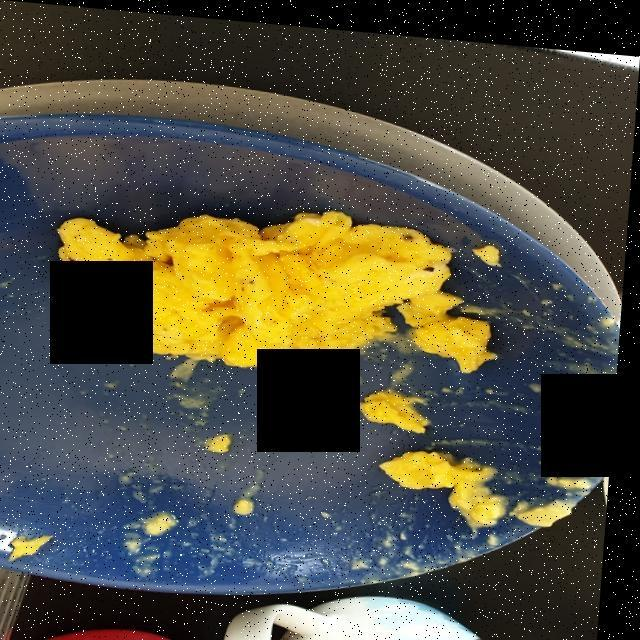eggs: (60, 209, 492, 358)
